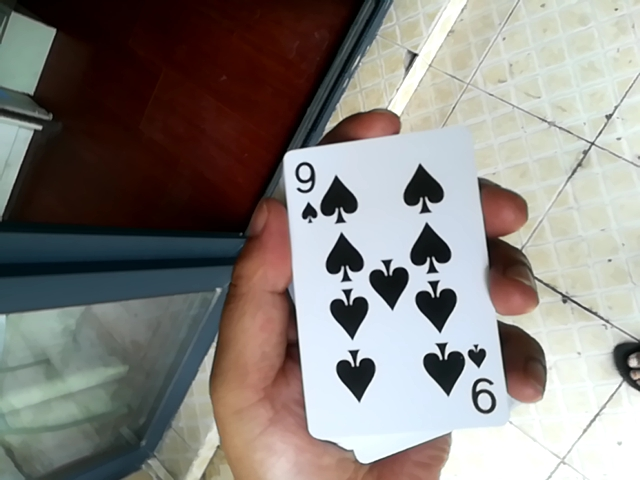ht 9: (279, 122, 518, 464)
